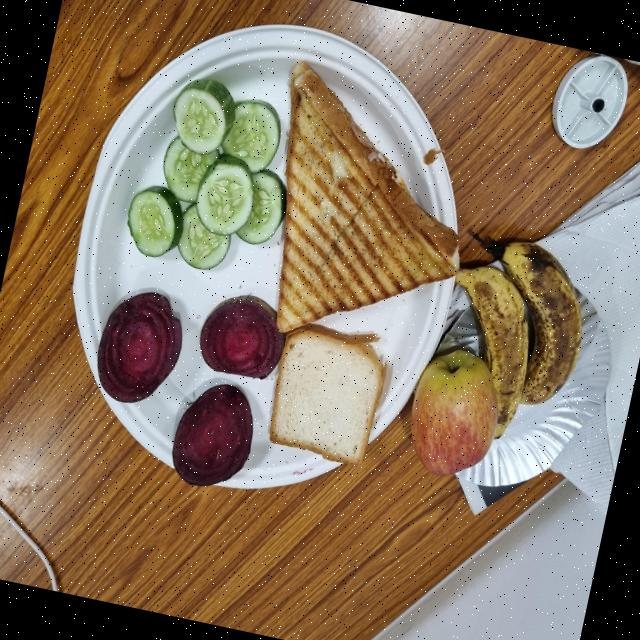apple: (413, 352, 499, 473)
banana: (500, 239, 584, 403), (454, 264, 529, 432)
cucumber: (126, 74, 285, 267)
